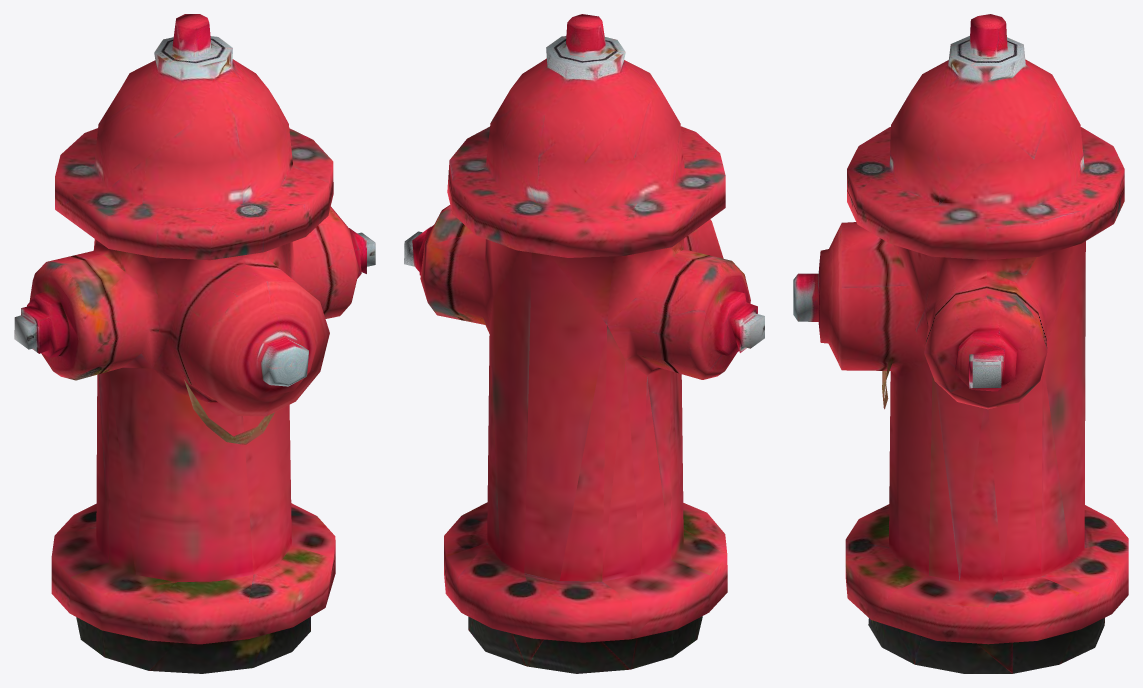
The model's file is hydrant.glb.
The picture shows the model from 3 angles, left to right: view 1: azimuth 30°, elevation 25°; view 2: azimuth 150°, elevation 25°; view 3: azimuth 270°, elevation 25°; orthographic projection.
Bounding box in the file's own units: 0.4815 × 0.8 × 0.4031.
1 material, 1 textured.
